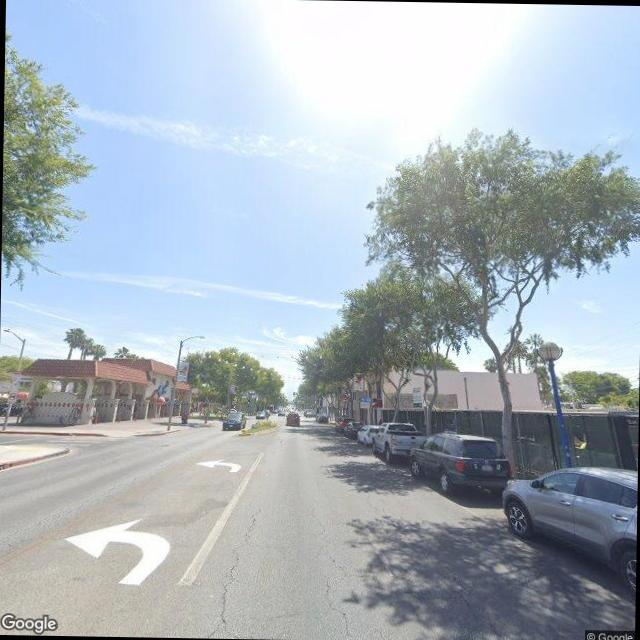pothole: (198, 498, 262, 637), (318, 573, 354, 640), (305, 498, 325, 536)
